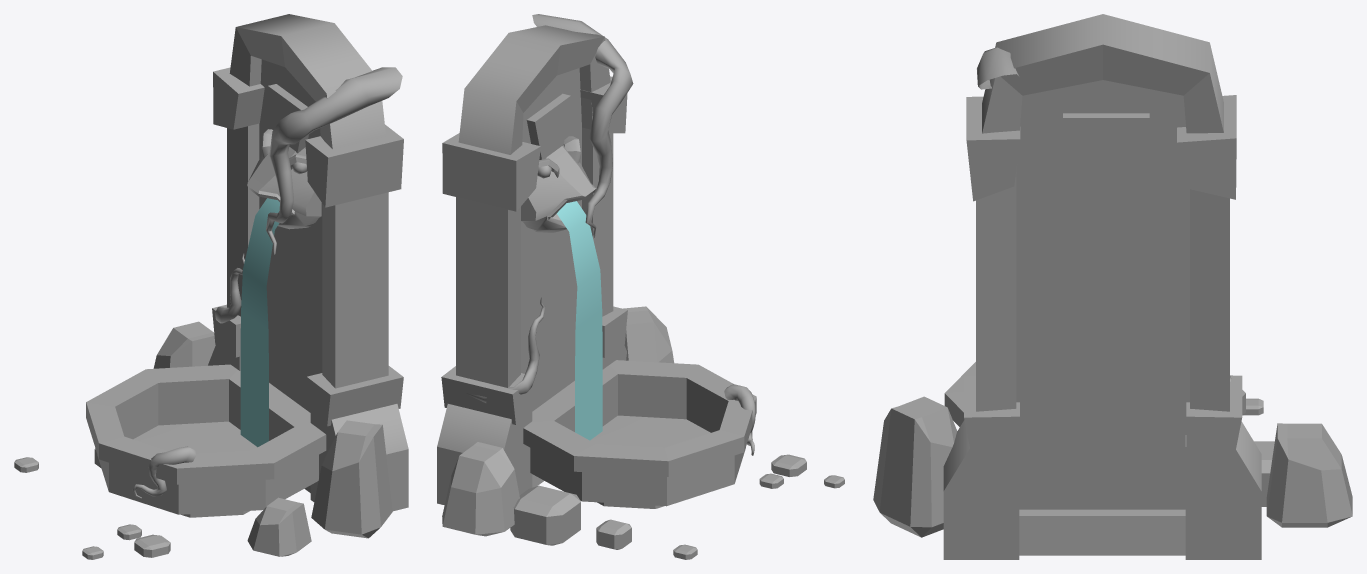
Rendered from Mana_Pool.fbx.
3 views of the same model, side by side, from view 1: azimuth 30°, elevation 25°; view 2: azimuth 150°, elevation 25°; view 3: azimuth 270°, elevation 25° (orthographic). The views are drawn at different scales.
Visible parts, largest first — view 1: pCube1, pCylinder6, pCube8, pCube38, pPlane1, pCube4, sweep1, pCube6, pCube10, pCube39, pCube15, pCube3 (+6 smaller); view 2: pCube1, pCylinder6, pCube8, pPlane1, pCube32, pCube3, pCube9, sweep1, pCube31, pCube15, pCube7, pCube38 (+7 smaller); view 3: pCube8, pCube1, pCube38, pCube9, pCube10, pCube32, pCube30, pCube3, pCube4, pCube7, pCube6, sweep1 (+2 smaller).
Part boxes in pixels (x1,y1,x2,y2): pCube1: (227, 14, 388, 492); pCylinder6: (86, 364, 326, 517); pCube8: (259, 59, 322, 412); pCube38: (311, 420, 392, 538); pPlane1: (240, 198, 279, 447); pCube4: (305, 124, 403, 207); sweep1: (266, 67, 402, 254); pCube6: (306, 366, 403, 426); pCube10: (310, 404, 408, 511); pCube39: (247, 497, 311, 556); pCube15: (247, 147, 321, 229); pCube3: (213, 67, 264, 129); pCube1: (456, 25, 613, 487); pCylinder6: (523, 360, 756, 508); pCube8: (521, 68, 581, 411); pPlane1: (557, 201, 602, 440); pCube32: (442, 442, 519, 536); pCube3: (442, 133, 540, 211); pCube9: (437, 404, 532, 505); sweep1: (532, 14, 633, 237); pCube31: (510, 485, 580, 545); pCube15: (521, 145, 596, 232); pCube7: (441, 366, 535, 424); pCube38: (623, 306, 674, 363); pCube8: (1016, 80, 1189, 509); pCube1: (976, 14, 1229, 555); pCube38: (873, 396, 957, 537); pCube9: (1185, 421, 1261, 559); pCube10: (943, 420, 1019, 559); pCube32: (1266, 423, 1352, 527); pCube30: (1063, 113, 1149, 171); pCube3: (1177, 95, 1236, 199); pCube4: (966, 96, 1020, 201); pCube7: (1186, 375, 1242, 457); pCube6: (964, 375, 1019, 457); sweep1: (977, 47, 1019, 89).
Bounding box in the file's own units: 3.09 × 4.17 × 3.47.
